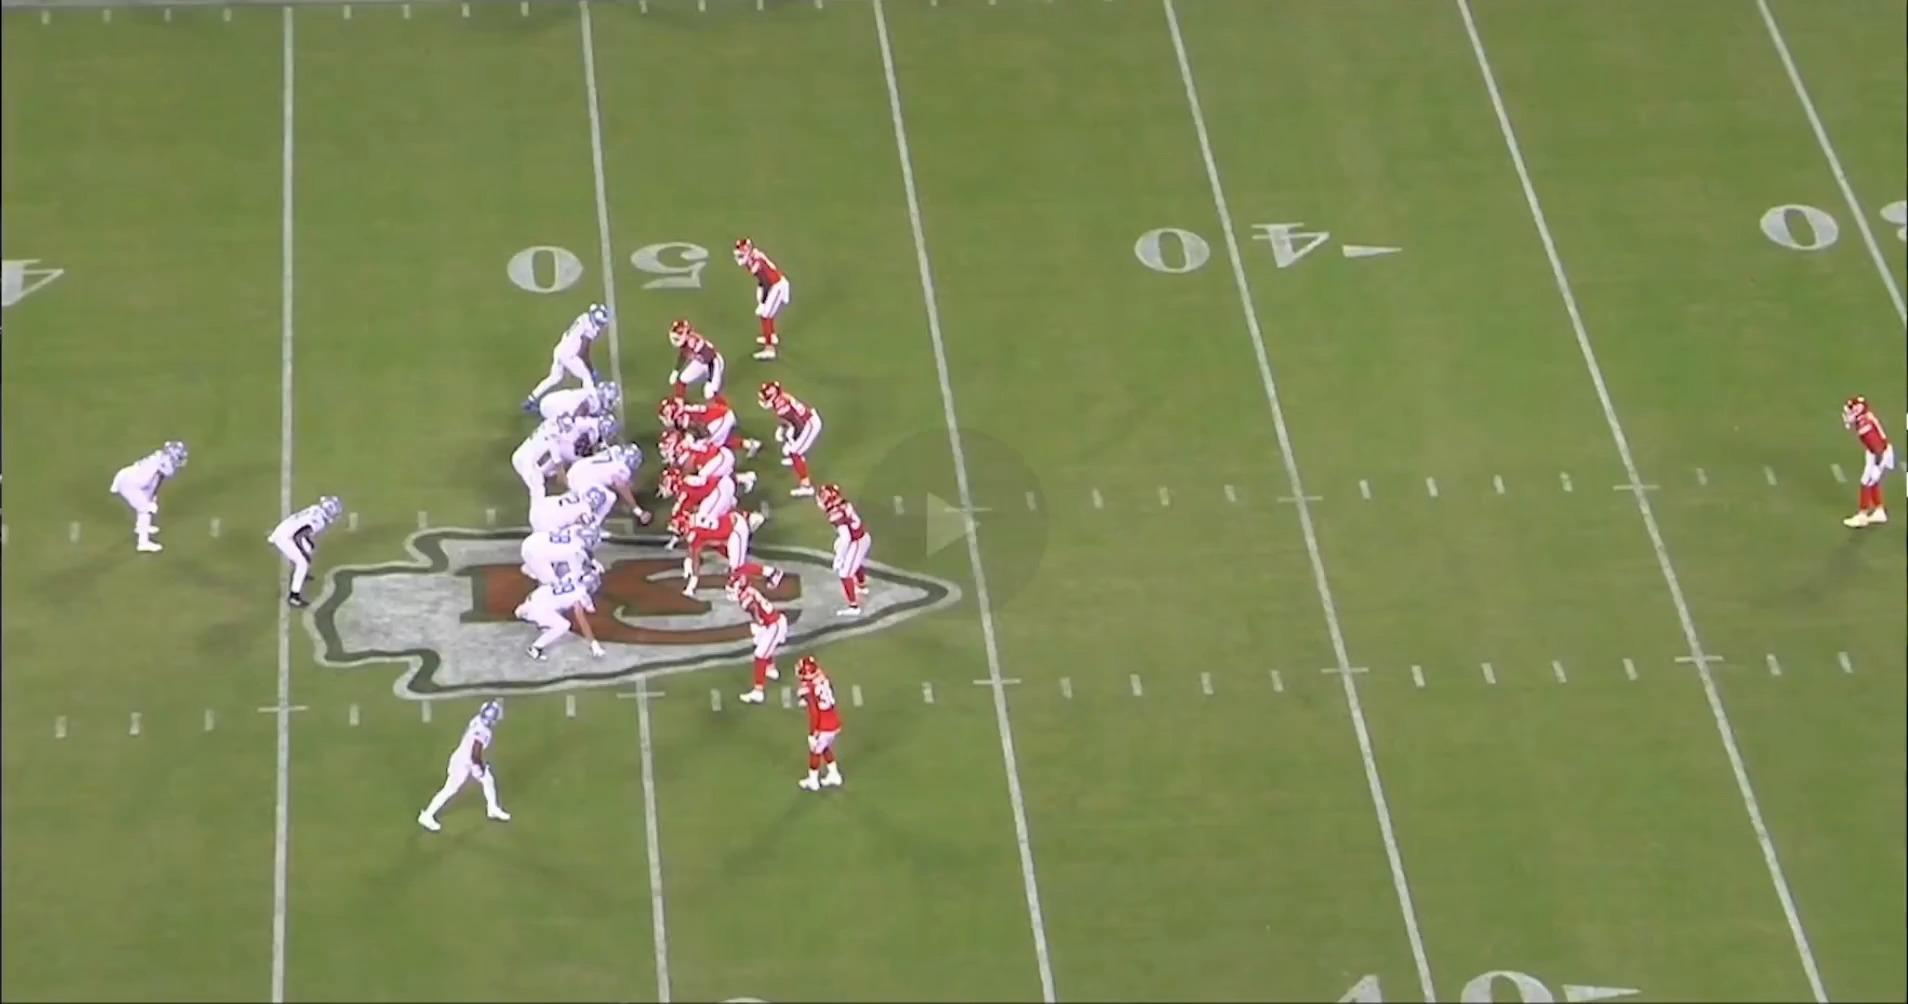player: (410, 702, 517, 843), (667, 503, 788, 598), (108, 437, 195, 564), (514, 304, 609, 417), (519, 561, 613, 668), (271, 492, 352, 613), (518, 521, 610, 626), (1830, 390, 1895, 532), (822, 483, 885, 624), (792, 655, 852, 801), (565, 448, 653, 545), (758, 384, 827, 505), (736, 235, 798, 366), (725, 571, 784, 706), (664, 469, 756, 554), (507, 414, 574, 517), (670, 430, 766, 496), (669, 398, 768, 458), (673, 322, 738, 412), (523, 482, 607, 541), (529, 378, 615, 431), (548, 412, 619, 460)
